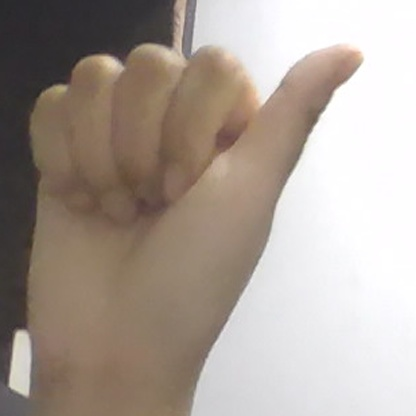A: (27, 44, 363, 372)
